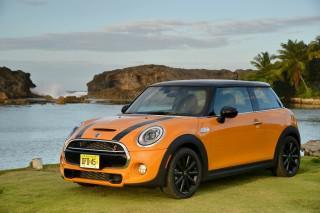mini: (91, 128, 108, 143)
